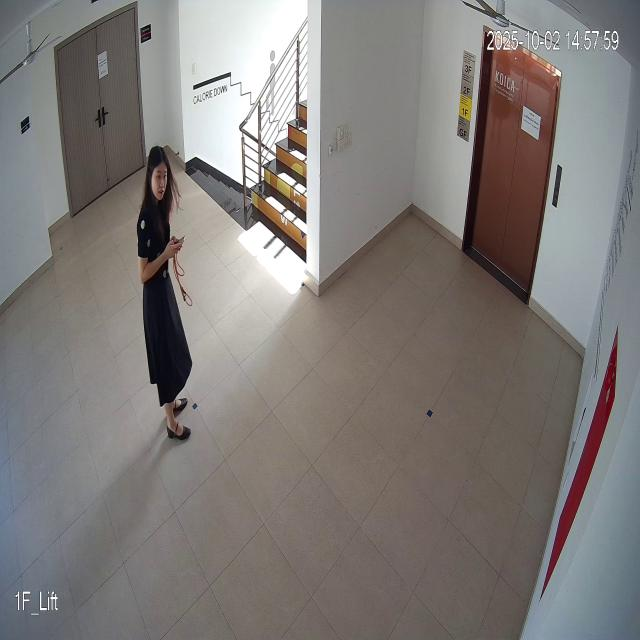face: (144, 144, 174, 207)
